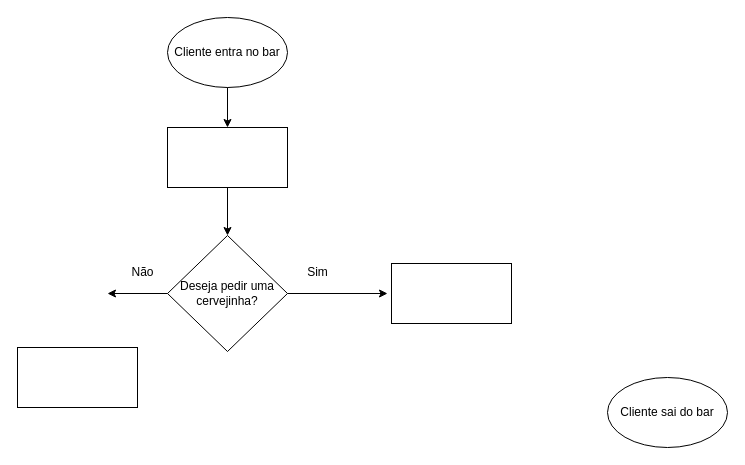
Some shapes in this 745 by 465 pixel diagram are drawn without their labels. Here are the shapes that lost their labels. From the top down, the centre of each, then its label:
At point 227,157: "Cliente senta e pega cardápio".
At point 451,293: "Garçom traz uma cerveja".
